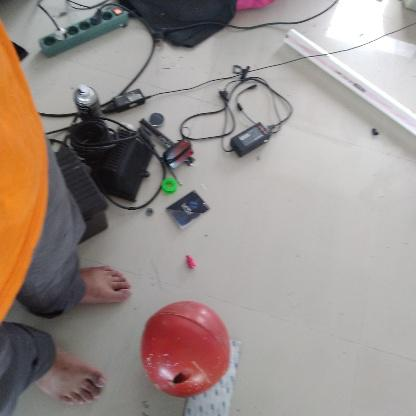red_buoy: (140, 300, 230, 399)
